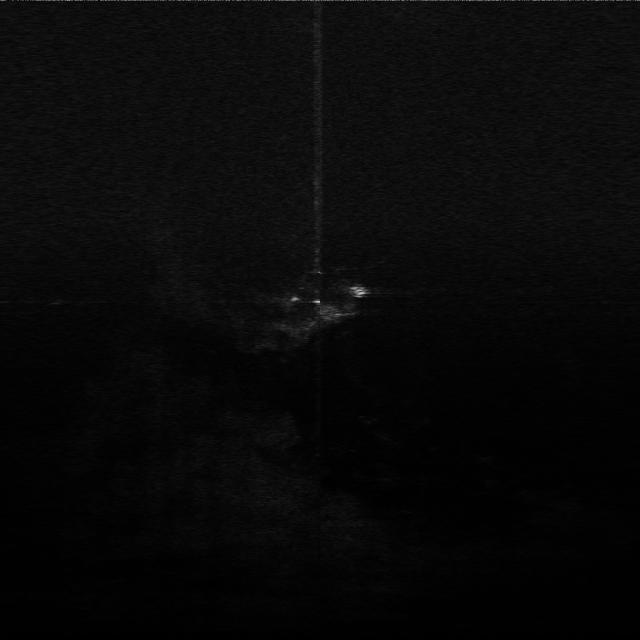rov: (347, 281, 369, 299)
